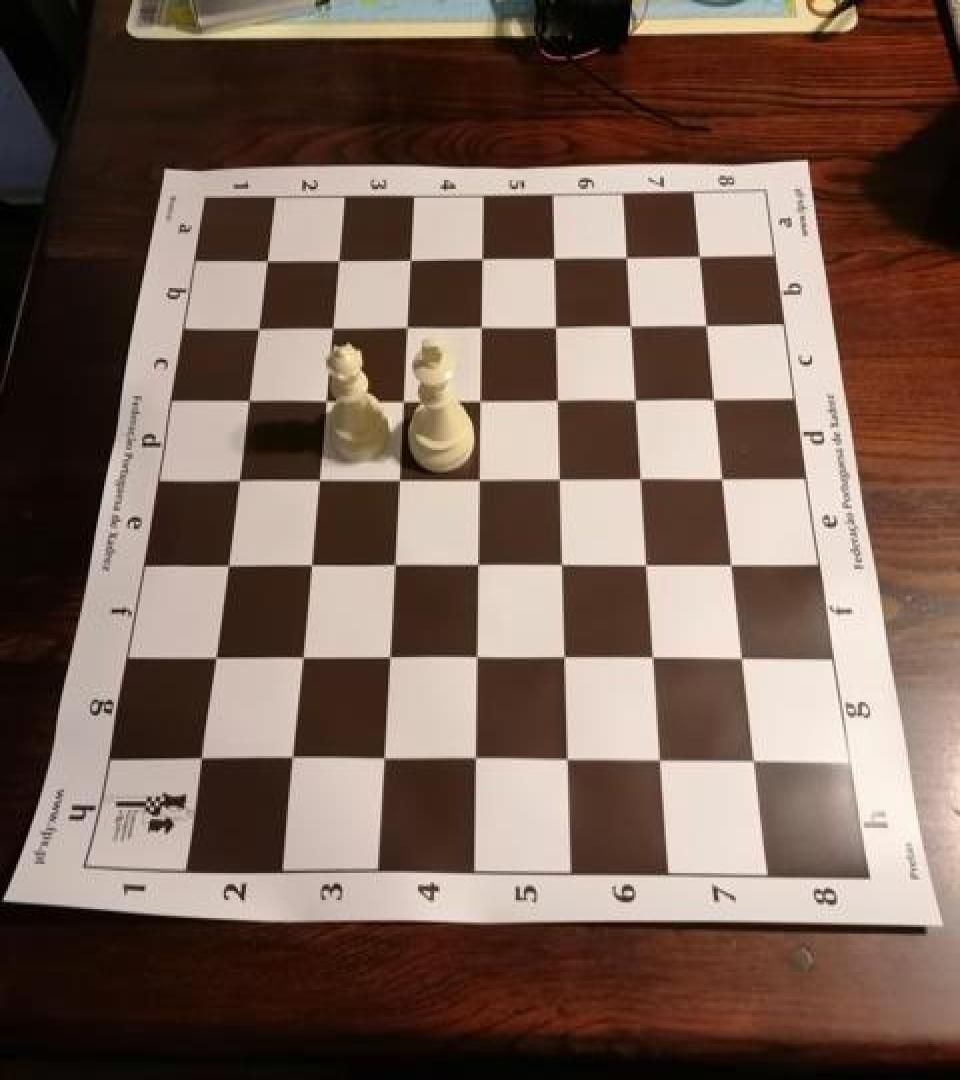xcorner: (546, 545, 578, 582), (461, 545, 493, 582), (376, 545, 408, 582), (292, 545, 324, 582), (208, 544, 240, 581), (458, 742, 490, 779), (365, 741, 397, 778), (684, 238, 716, 274), (611, 238, 643, 274), (537, 240, 569, 276), (465, 240, 497, 276), (392, 241, 424, 277), (321, 241, 353, 277), (249, 242, 281, 278), (692, 306, 724, 342), (615, 307, 647, 343), (539, 307, 571, 343), (464, 307, 496, 343), (389, 308, 421, 344), (314, 308, 346, 344), (240, 310, 272, 346), (700, 380, 732, 416), (620, 380, 652, 416), (541, 380, 573, 416), (463, 380, 495, 416), (385, 382, 417, 418), (307, 382, 339, 418), (230, 382, 262, 418), (709, 460, 741, 496), (626, 460, 658, 496), (544, 460, 576, 496), (462, 460, 494, 496), (381, 460, 413, 496), (300, 460, 332, 496), (220, 460, 252, 496), (719, 547, 751, 583), (632, 547, 664, 583), (729, 641, 761, 677), (639, 641, 671, 677), (549, 640, 581, 676), (460, 639, 492, 675), (371, 639, 403, 675), (283, 638, 315, 674), (196, 638, 228, 674), (741, 746, 773, 782), (646, 745, 678, 781), (552, 744, 584, 780), (273, 740, 305, 776), (182, 739, 214, 775)
